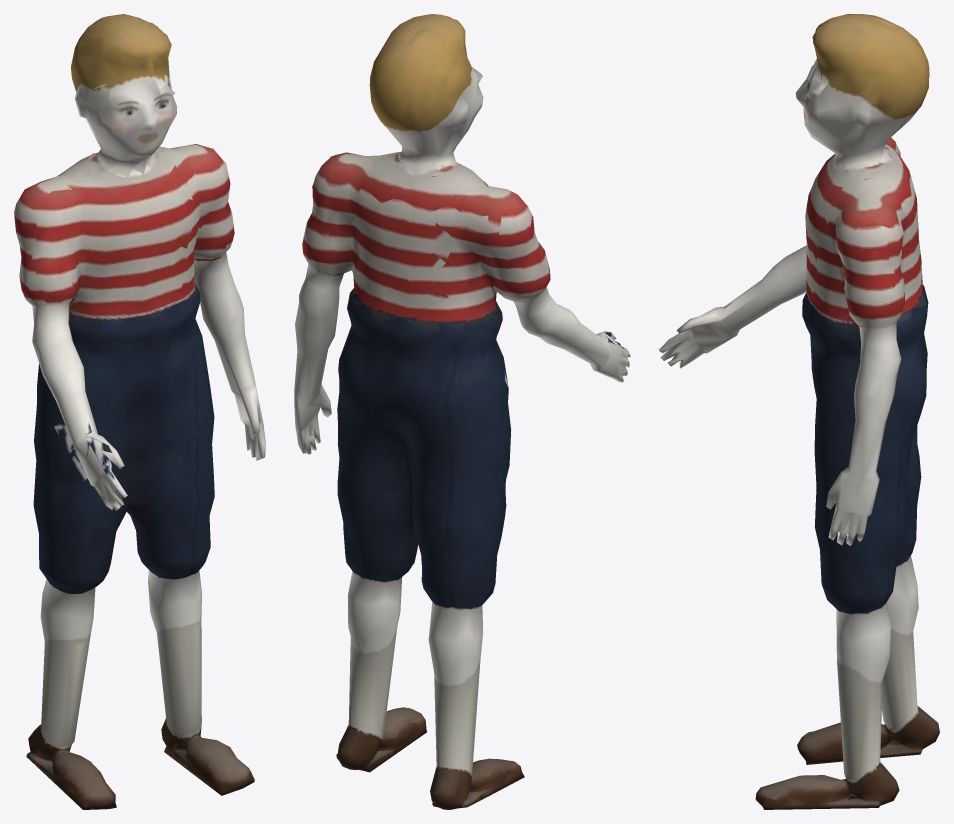
The model's file is mq_child_stand-low.glb.
3 renders of one model, left to right at view 1: azimuth 30°, elevation 25°; view 2: azimuth 150°, elevation 25°; view 3: azimuth 270°, elevation 25°, orthographic.
Visible parts, largest first — view 1: mq_child_stand-low, mq_child_stand_head-low; view 2: mq_child_stand-low, mq_child_stand_head-low; view 3: mq_child_stand-low, mq_child_stand_head-low.
Boxes of the visible parts, bbox=[...] form: mq_child_stand-low: bbox=[14, 144, 265, 809]; mq_child_stand_head-low: bbox=[71, 14, 177, 176]; mq_child_stand-low: bbox=[294, 152, 630, 809]; mq_child_stand_head-low: bbox=[369, 14, 483, 176]; mq_child_stand-low: bbox=[659, 137, 939, 809]; mq_child_stand_head-low: bbox=[795, 14, 929, 179].
Bounding box in the file's own units: 0.4296 × 1.26 × 0.4209.
1 material, 1 textured.
